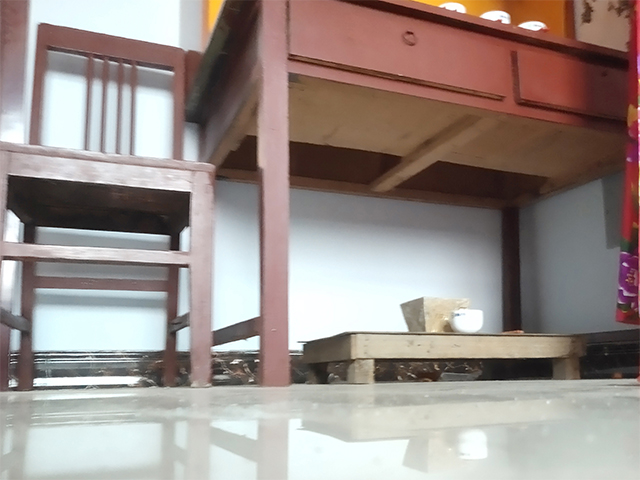stool: (1, 21, 218, 391), (300, 330, 591, 386)
table: (182, 1, 640, 390)
